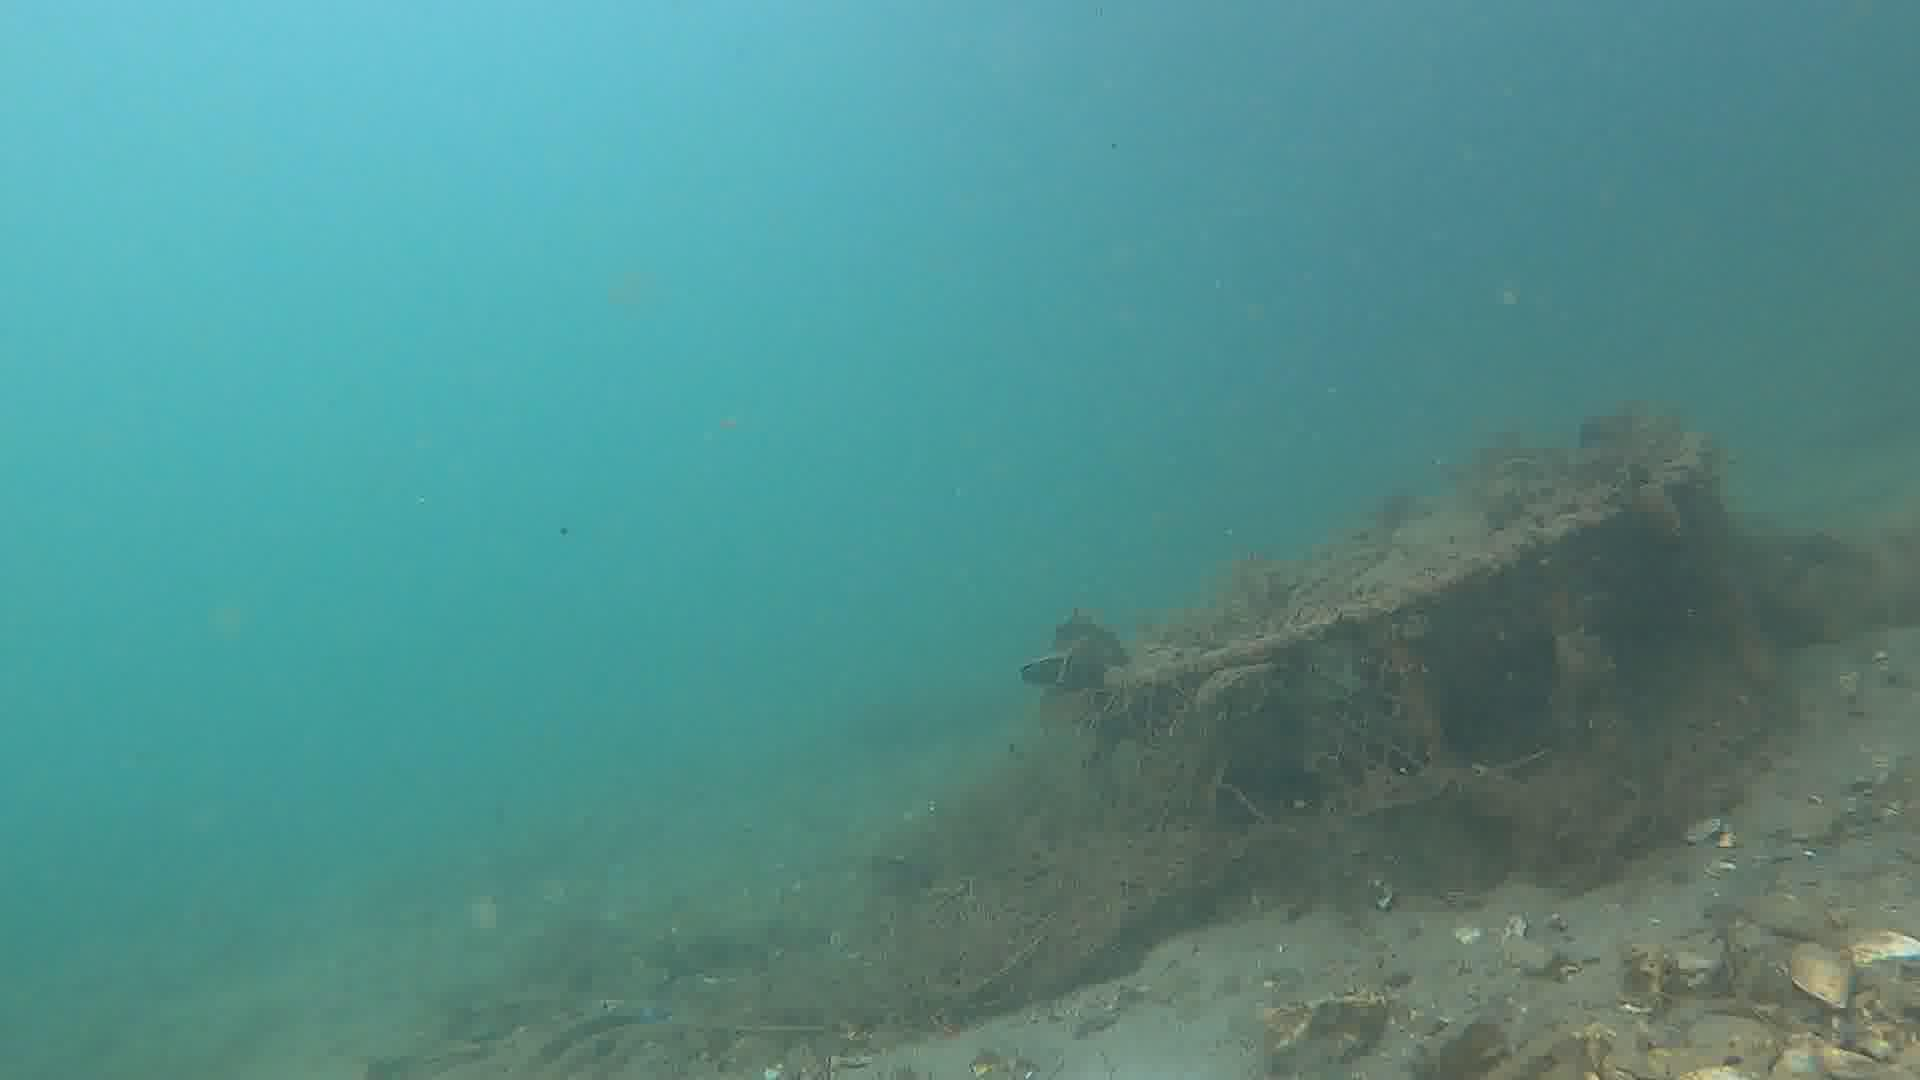circular fish trap: (1087, 421, 1782, 835)
